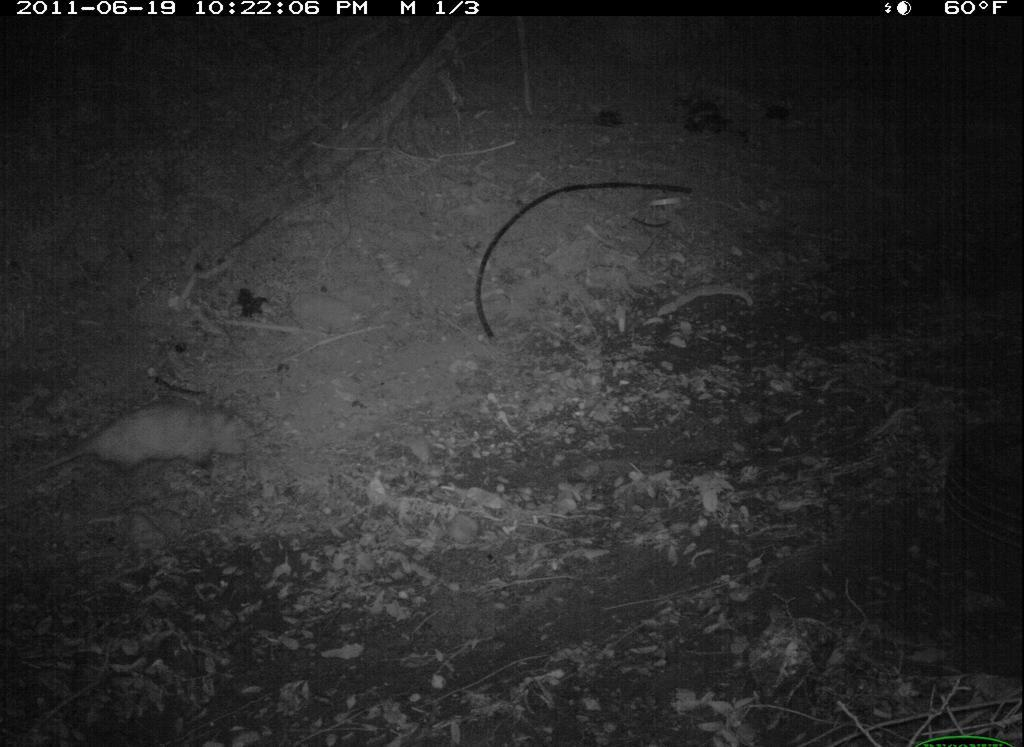opossum: (27, 395, 272, 506)
